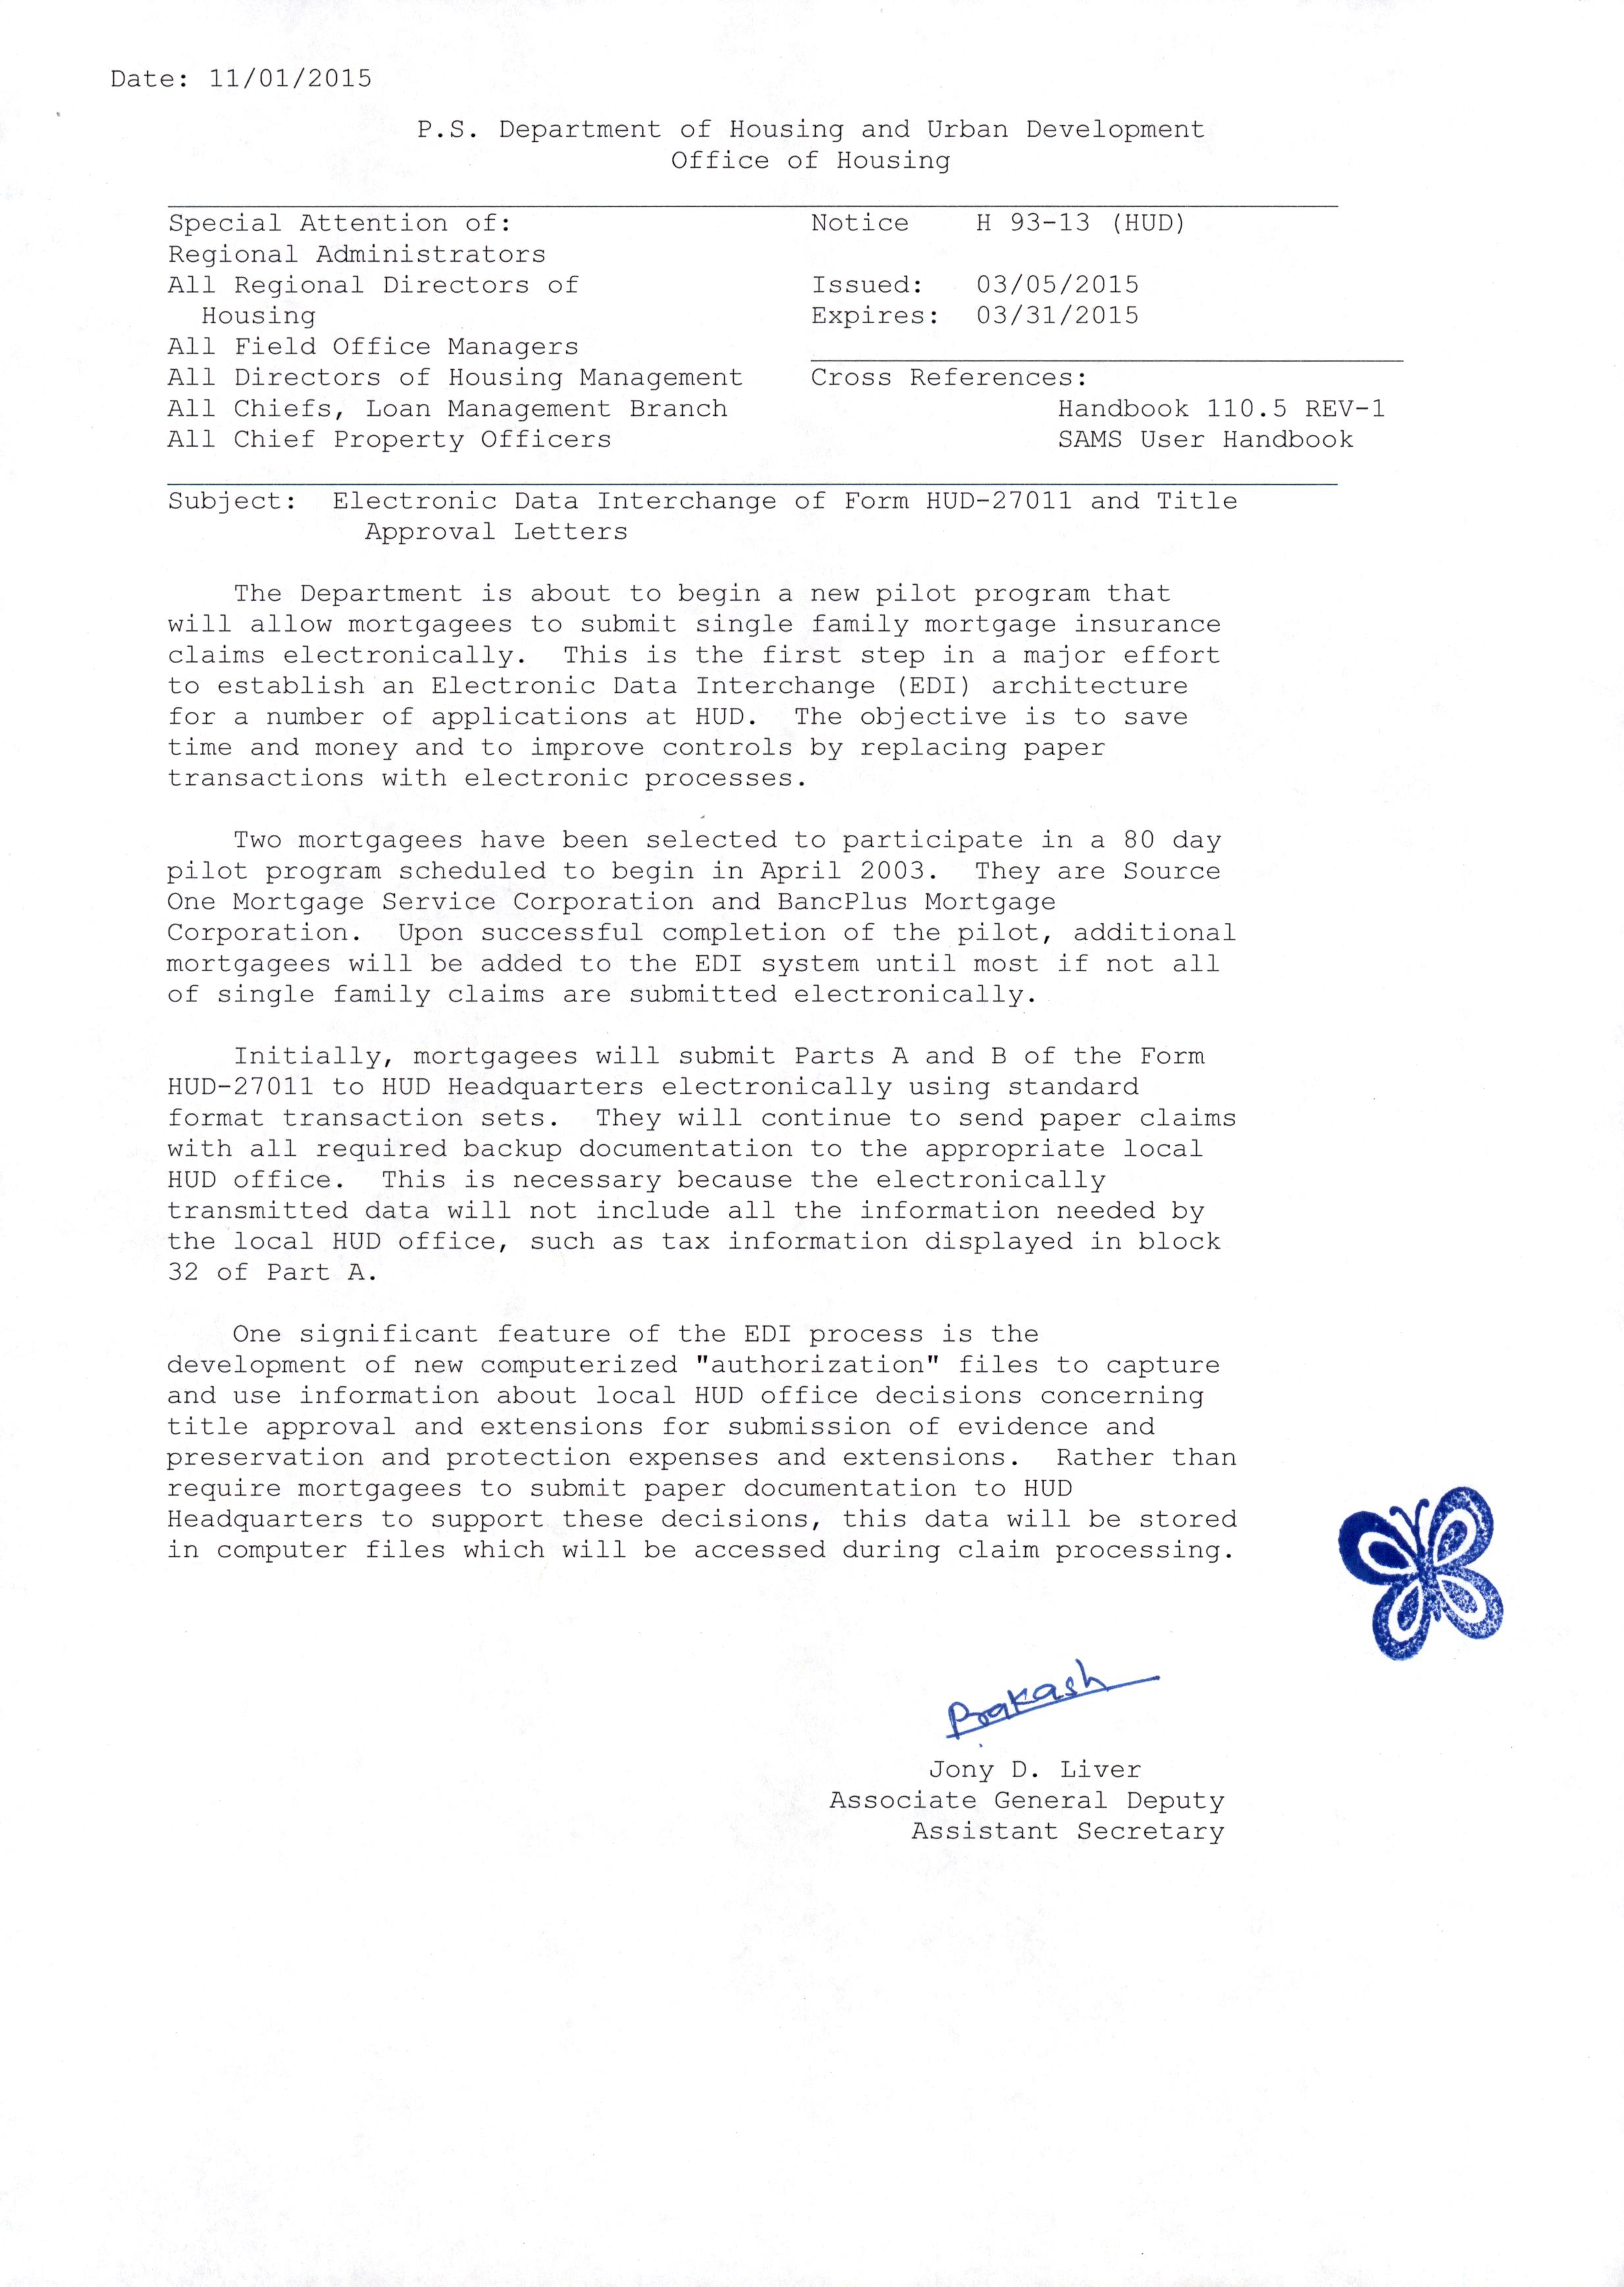Signature: (928, 1646, 1178, 1746)
